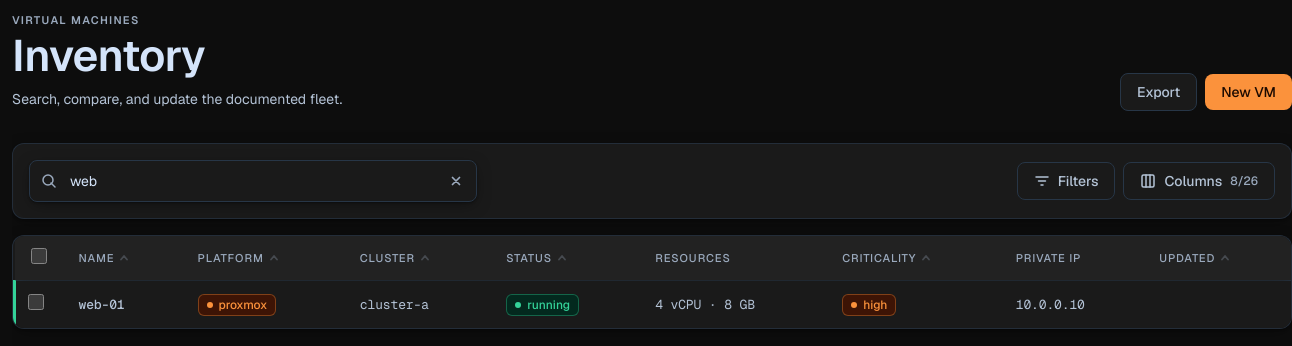
Test: InventoryPage › seeds the search field from the URL and clears it back to empty
Expected: the search field named "Search VMs" holds "web", [29,160,477,202]
Step 1. Click the button named "Clear search" → click(456, 181), box [447,172,465,190]
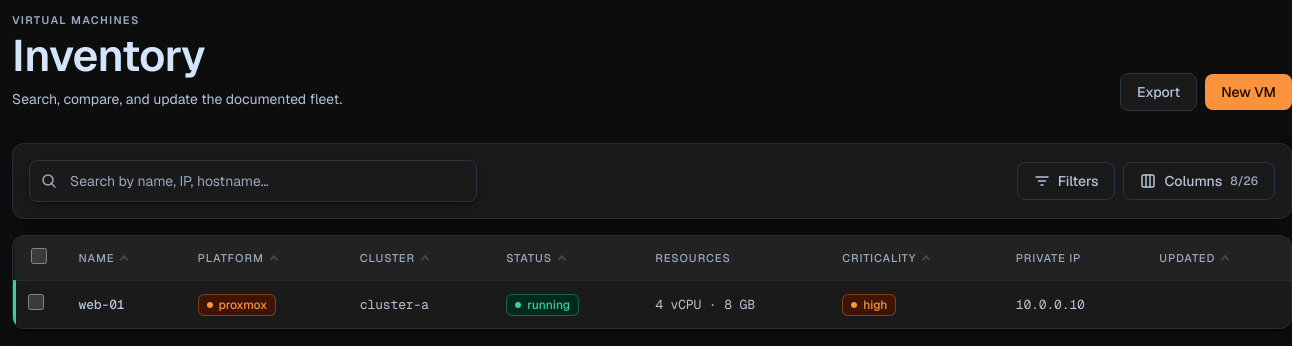
Now the search field named "Search VMs" is empty, box [29,160,477,202]
